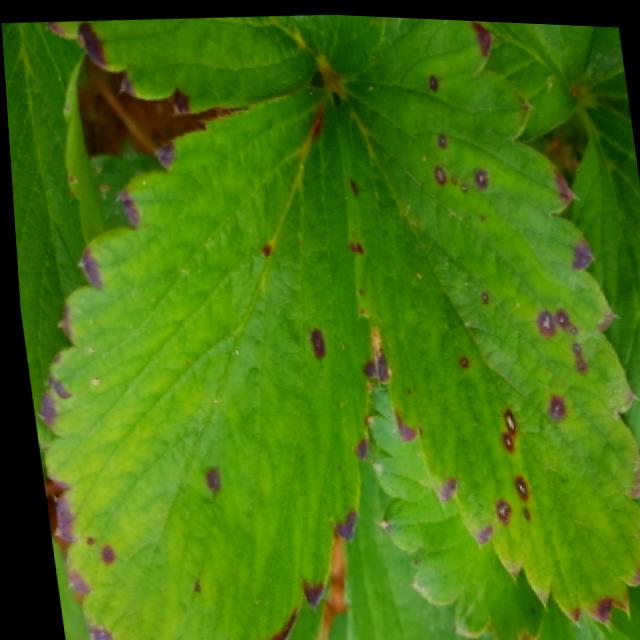Leaf Spot: (322, 14, 640, 622), (29, 82, 372, 640)
